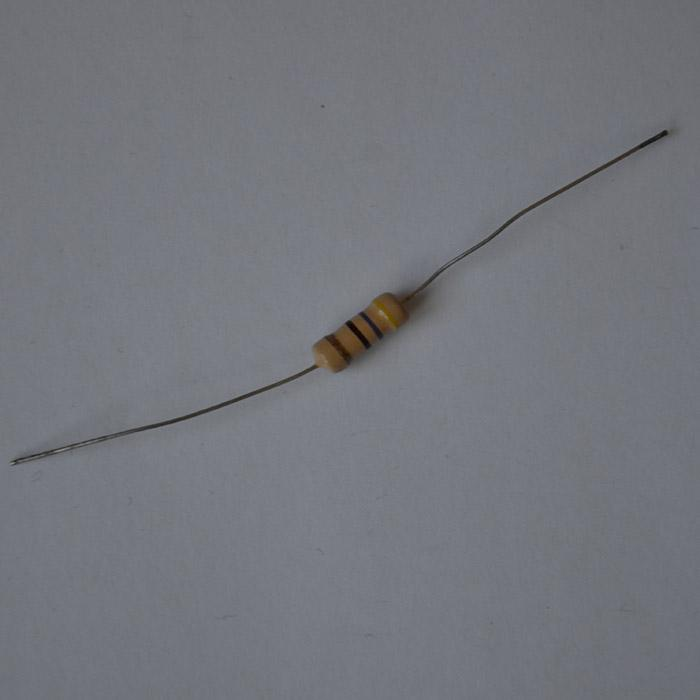resistor: (311, 289, 410, 373)
